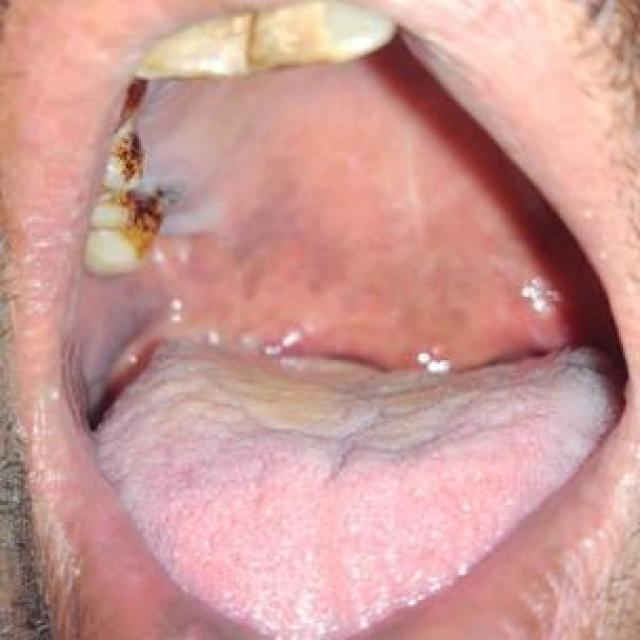leukoplakia-detection: (68, 274, 168, 426), (139, 85, 229, 235)
processing_area: (69, 63, 623, 638)
